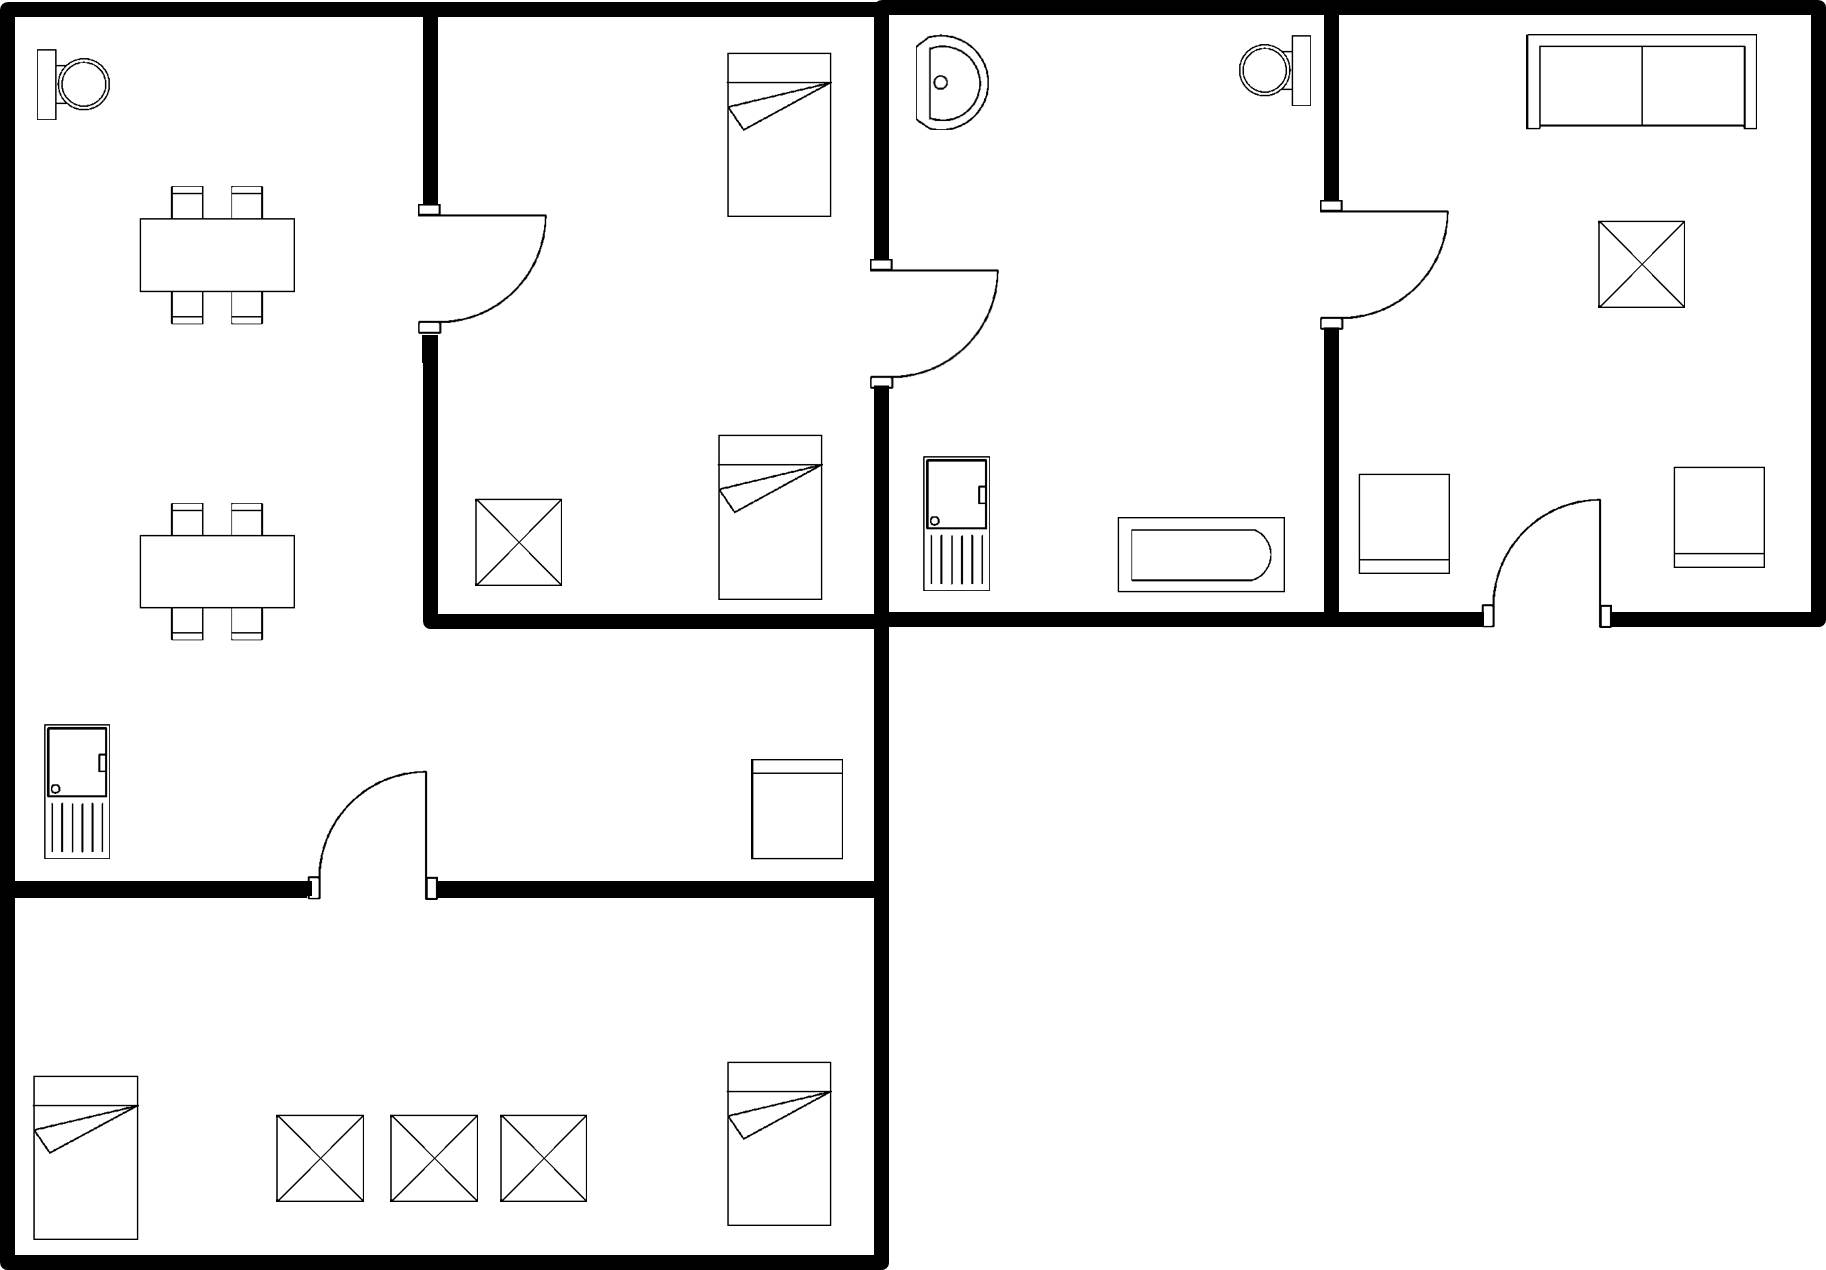bed: (701, 424, 838, 607), (716, 1046, 847, 1237), (24, 1067, 153, 1250), (716, 43, 840, 232)
coffee_table: (489, 1103, 595, 1216), (266, 1104, 376, 1212), (464, 485, 570, 595), (1590, 212, 1696, 317), (386, 1108, 485, 1213)
dining_table: (127, 495, 307, 654), (125, 180, 304, 337)
large_sink: (25, 39, 116, 134), (1226, 25, 1318, 117)
large_sofa: (1512, 24, 1765, 141)
sink: (31, 715, 122, 865), (911, 446, 1001, 598)
small_sink: (904, 26, 995, 142)
small_sofa: (1660, 456, 1776, 580), (742, 750, 856, 865), (1350, 470, 1465, 583)
tub: (1111, 507, 1292, 600)
